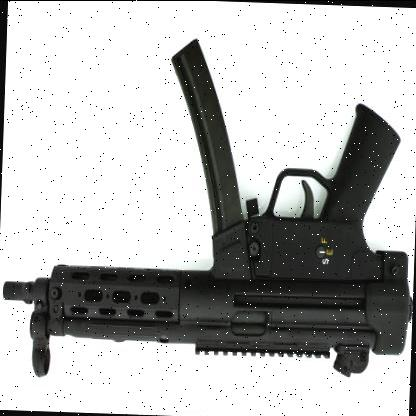rifle: (21, 36, 416, 410)
